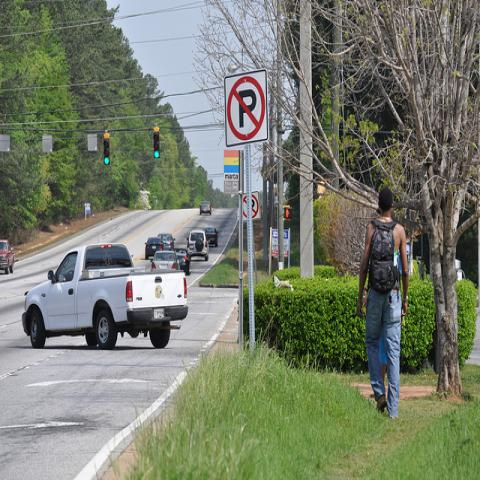car: (150, 249, 182, 272), (187, 230, 209, 262), (170, 248, 192, 276), (145, 238, 164, 260), (157, 233, 176, 250), (202, 227, 218, 246), (200, 200, 212, 216)
truck: (21, 244, 187, 350), (0, 239, 15, 275)
